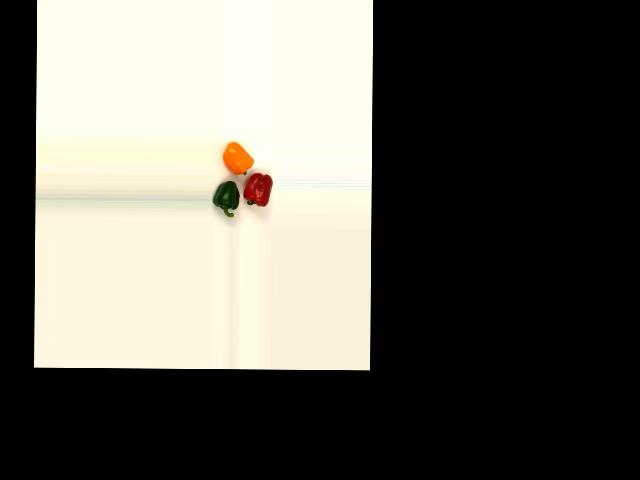bell_pepper: (212, 180, 241, 218)
